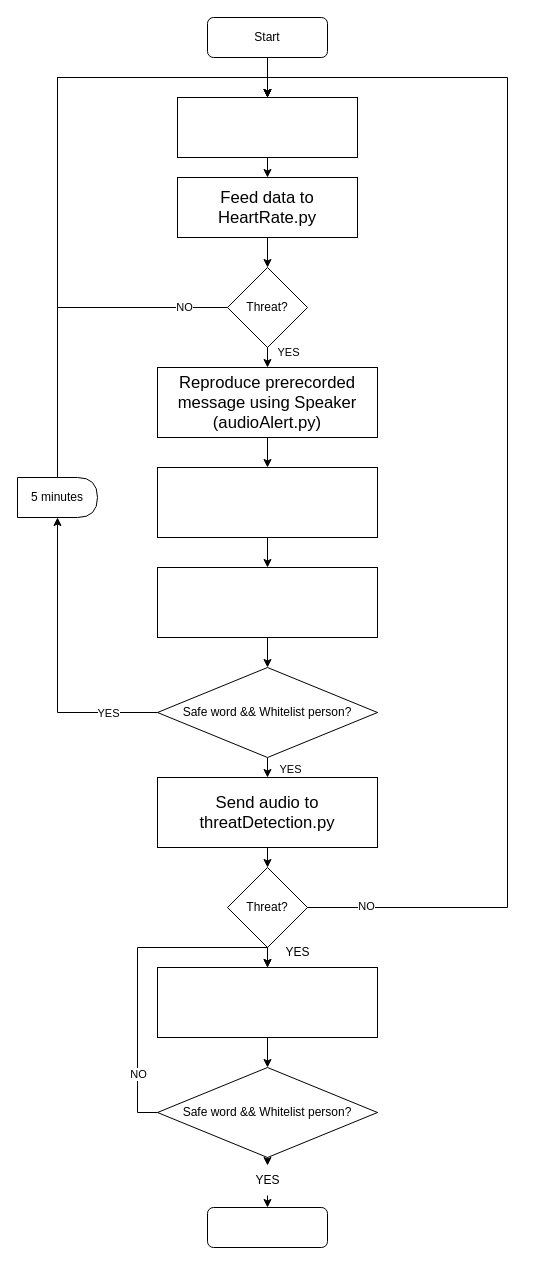
Some shapes in this 533 by 1265 pixel diagram are drawn without their labels. The centre of each missing label's shape, as x and y in pixels:
End: [267,1227]
Open Microphone and save sample (audioSample.py): [267,502]
Send recorded message to voiceRecognition.py: [267,602]
Send SMS and Email using sendMessage.py: [267,1002]
Smartwatch monitors Heart Rate: [267,127]
